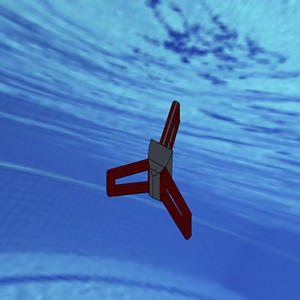submarine: (56, 72, 249, 251)
